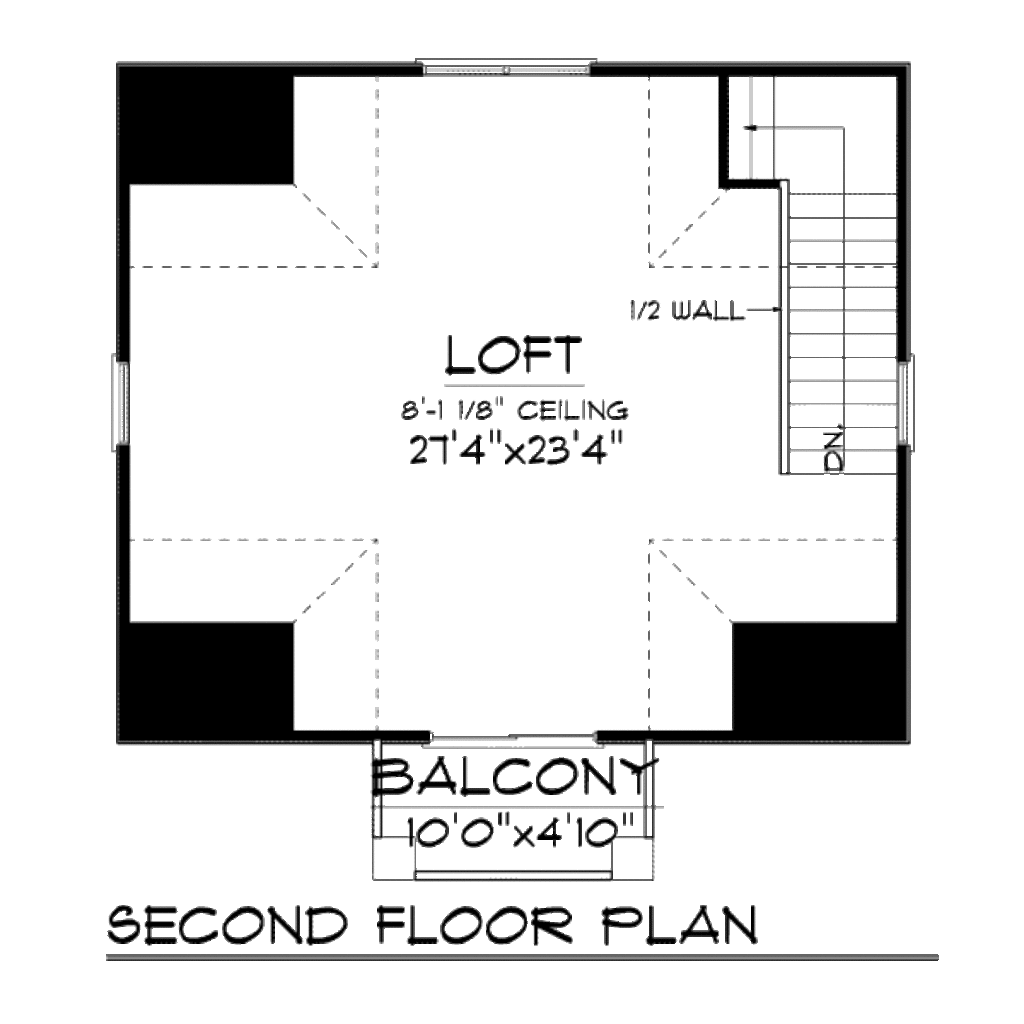stairs: (730, 75, 895, 483)
window: (423, 53, 592, 82), (108, 355, 138, 452), (897, 352, 916, 444)
